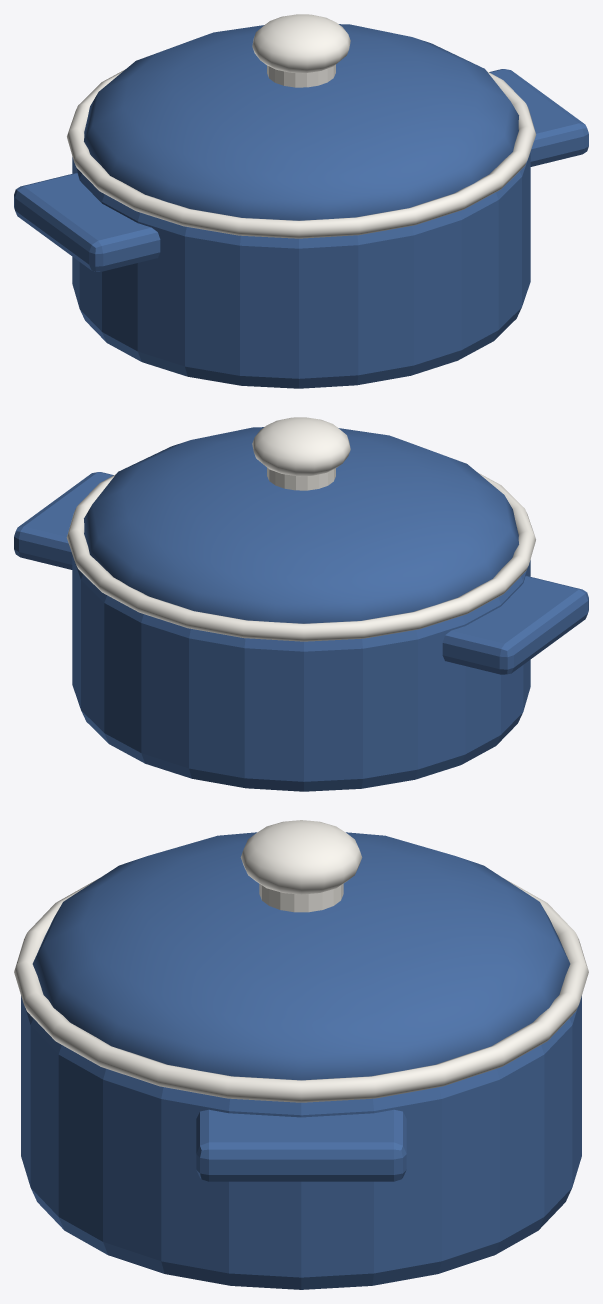
The model's file is hh_cat_casserole.glb.
3 views of the same model, one above another, from view 1: azimuth 30°, elevation 25°; view 2: azimuth 150°, elevation 25°; view 3: azimuth 270°, elevation 25° (orthographic). The views are drawn at different scales.
Visible parts, largest first — view 1: body, lid, rim, handle, knob.001, handle.001, knob; view 2: body, lid, rim, handle, knob.001, handle.001, knob; view 3: lid, body, rim, handle.001, knob.001, knob.
Part boxes in pixels (left/top/right/bottom): body: left=72, top=152, right=530, bottom=388; lid: left=84, top=24, right=518, bottom=220; rim: left=67, top=69, right=536, bottom=238; handle: left=14, top=173, right=160, bottom=271; knob.001: left=252, top=14, right=350, bottom=73; handle.001: left=489, top=69, right=588, bottom=166; knob: left=267, top=64, right=335, bottom=87; body: left=72, top=555, right=530, bottom=791; lid: left=84, top=427, right=518, bottom=623; rim: left=66, top=472, right=535, bottom=641; handle: left=442, top=576, right=588, bottom=674; knob.001: left=252, top=417, right=350, bottom=476; handle.001: left=14, top=472, right=113, bottom=569; knob: left=267, top=467, right=335, bottom=490; lid: left=32, top=832, right=570, bottom=1080; body: left=21, top=996, right=581, bottom=1289; rim: left=14, top=878, right=588, bottom=1102; handle.001: left=196, top=1109, right=406, bottom=1181; knob.001: left=240, top=820, right=362, bottom=894; knob: left=259, top=884, right=343, bottom=912.
Size of the model in its own units: 0.3 by 0.16 by 0.24.
